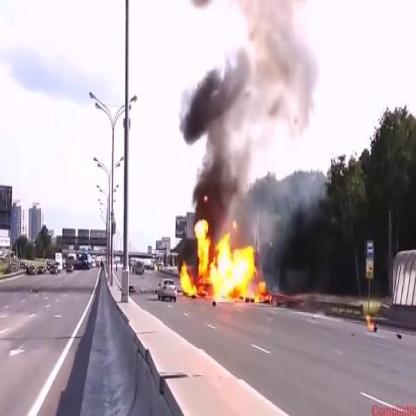fire: (180, 207, 272, 307), (365, 313, 377, 332)
